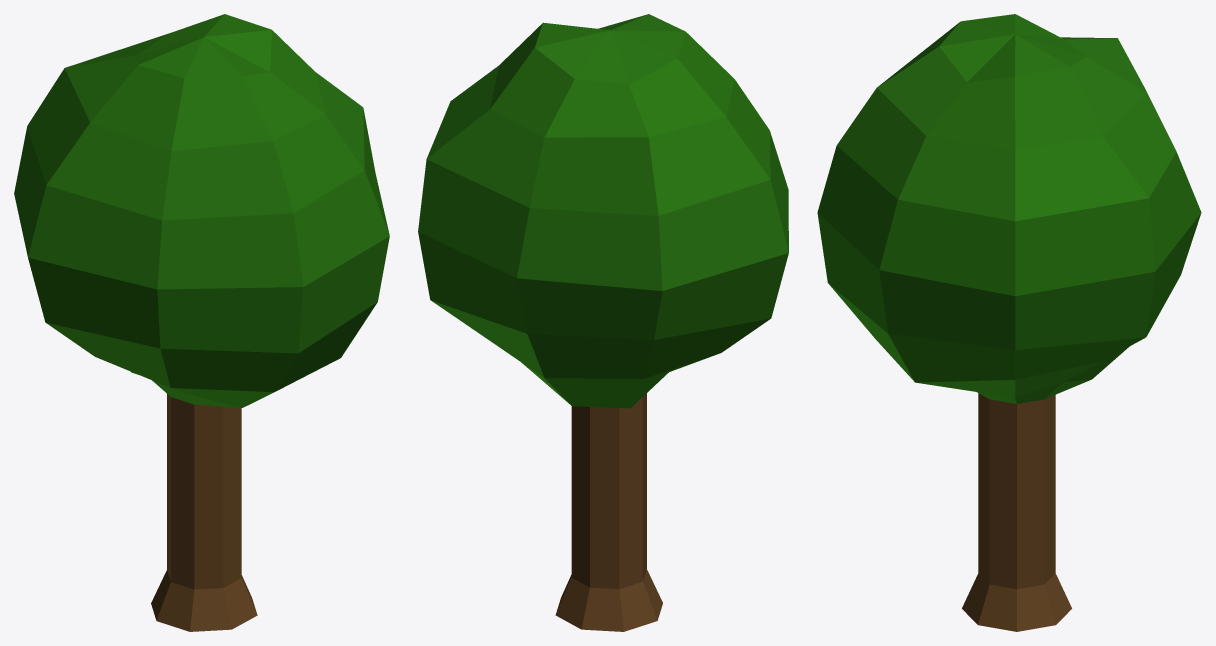
The model's file is arbol_2.fbx.
The picture shows the model from 3 angles, left to right: view 1: azimuth 30°, elevation 25°; view 2: azimuth 150°, elevation 25°; view 3: azimuth 270°, elevation 25°; orthographic projection.
Visible parts, largest first — view 1: tree2; view 2: tree2; view 3: tree2.
Part boxes in pixels (<box>): tree2: <box>14,14,389,631</box>; tree2: <box>418,14,788,631</box>; tree2: <box>817,14,1201,631</box>.
Bounding box in the file's own units: 342 × 539 × 327.
